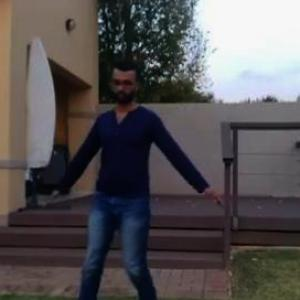land: (63, 68, 214, 299)
